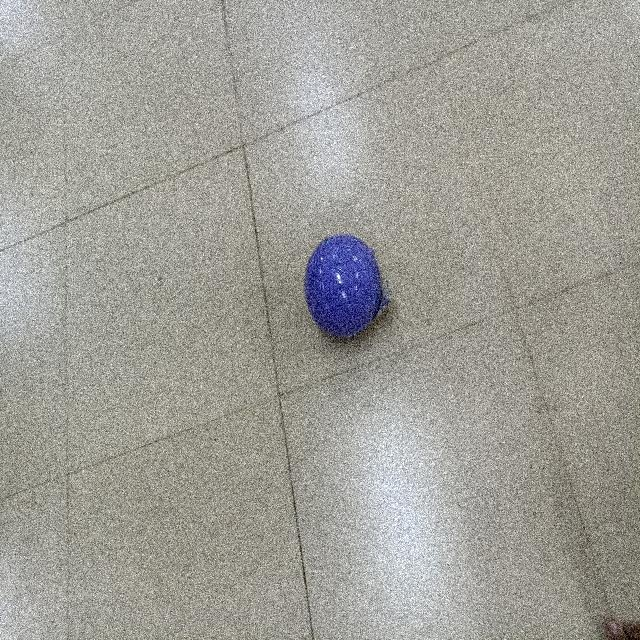purple_ball: (304, 230, 382, 339)
